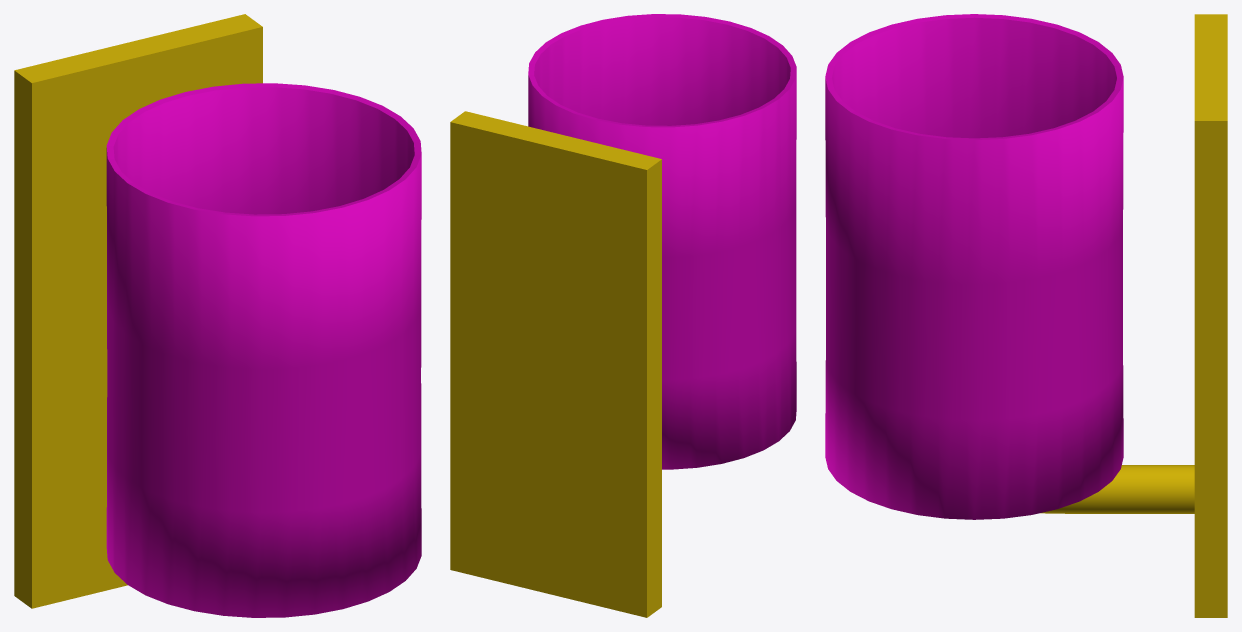
The model's file is WallLamp.fbx.
3 views of the same model, side by side, from view 1: azimuth 30°, elevation 25°; view 2: azimuth 150°, elevation 25°; view 3: azimuth 270°, elevation 25° (orthographic). The views are drawn at different scales.
Visible parts, largest first — view 1: Плоскость; view 2: Плоскость; view 3: Плоскость.
Part boxes in pixels (x1,y1,x2,y2): Плоскость: (14, 14, 421, 617); Плоскость: (450, 14, 796, 617); Плоскость: (825, 14, 1227, 617).
Size of the model in its own units: 109 by 200 by 147.
